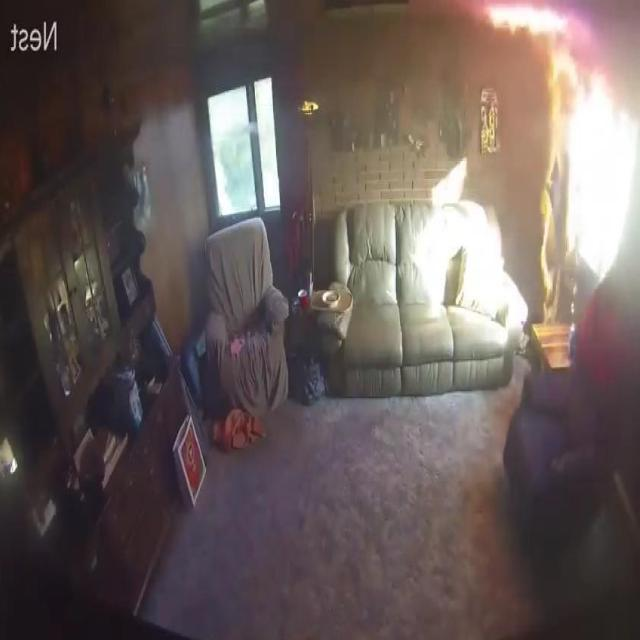smoke: (534, 54, 585, 327), (484, 5, 572, 42)
